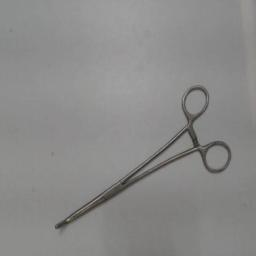Lahey Forceps: (50, 77, 234, 235)
